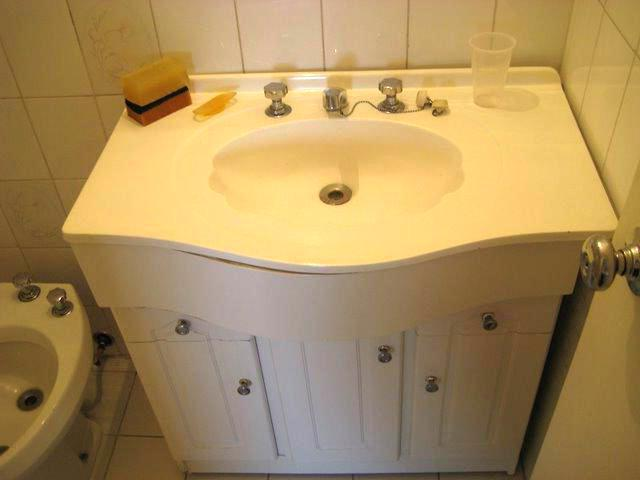Lavamanos: (182, 82, 462, 240)
Sanitario: (0, 274, 87, 469)
